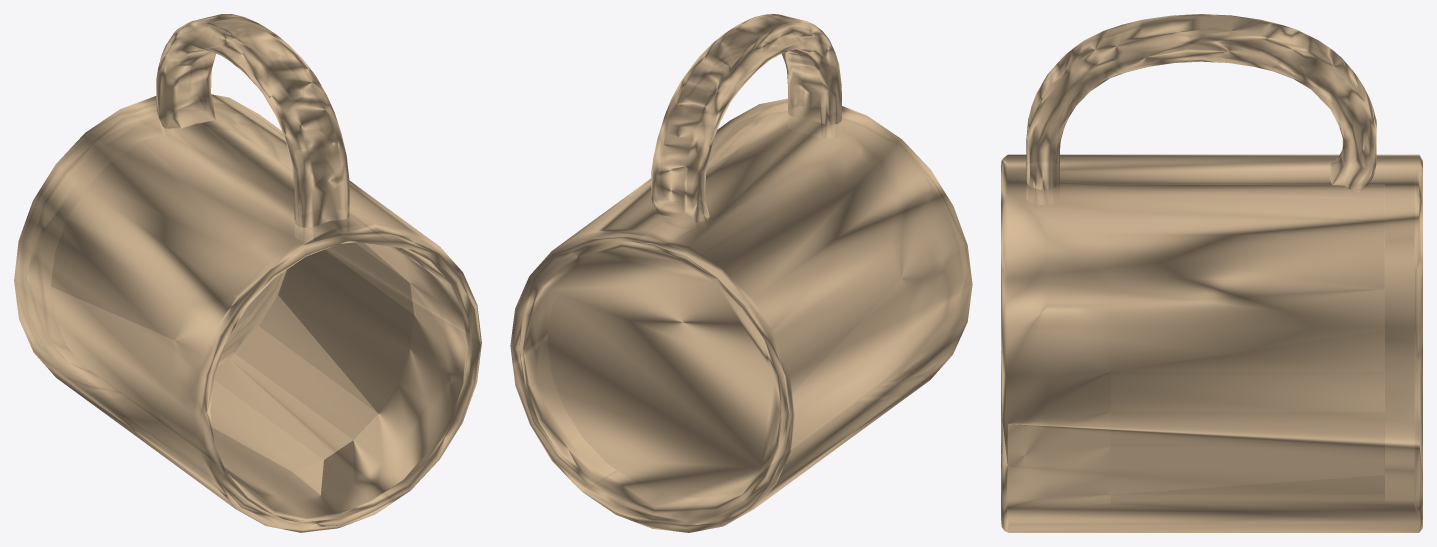
File: model_align.obj
The picture shows the model from 3 angles, left to right: view 1: azimuth 30°, elevation 25°; view 2: azimuth 150°, elevation 25°; view 3: azimuth 270°, elevation 25°; orthographic projection. The views are drawn at different scales.
Size of the model in its own units: 0.0867 by 0.1242 by 0.0963.
